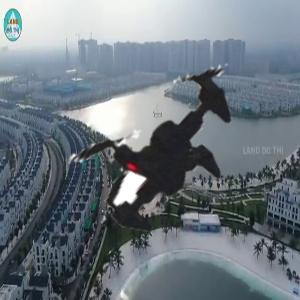drone: (19, 3, 297, 281)
